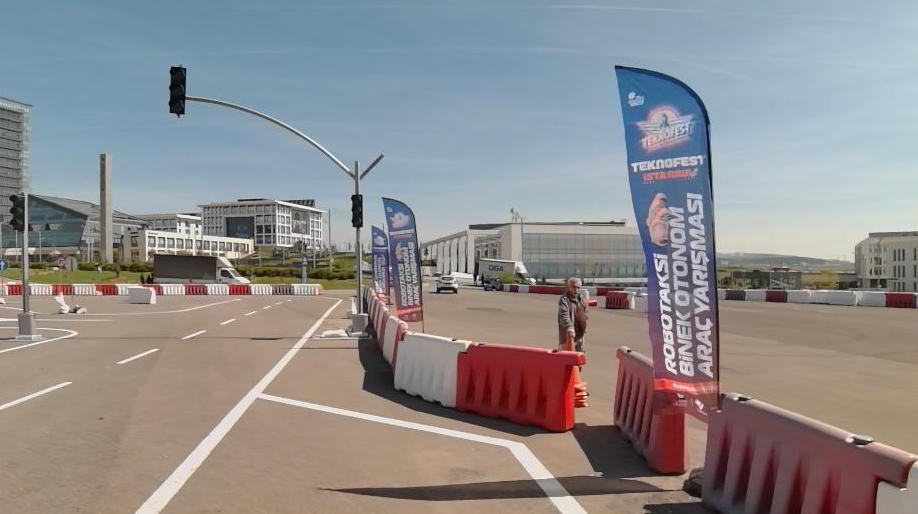nesne: (0, 298, 340, 513), (136, 393, 588, 514), (138, 393, 588, 514), (135, 310, 336, 514), (614, 64, 719, 428), (0, 296, 288, 412), (701, 391, 913, 513), (186, 95, 385, 193), (457, 340, 585, 432), (611, 341, 685, 474), (395, 330, 464, 405), (152, 253, 251, 282), (17, 190, 35, 334), (1, 380, 71, 410), (351, 229, 369, 330), (0, 333, 75, 354), (379, 314, 405, 366), (167, 65, 187, 114), (117, 348, 159, 363), (9, 191, 25, 230), (683, 465, 704, 492), (126, 286, 155, 304), (350, 194, 362, 227), (437, 275, 457, 293), (292, 283, 320, 295), (159, 283, 186, 295), (31, 281, 54, 295), (95, 283, 119, 295), (185, 283, 209, 295), (230, 281, 252, 294), (72, 283, 97, 294), (57, 294, 70, 314), (250, 284, 273, 295), (54, 282, 73, 295), (273, 283, 293, 295), (1, 282, 21, 294), (318, 328, 347, 336), (209, 283, 230, 294), (182, 330, 204, 338), (220, 318, 234, 324)
